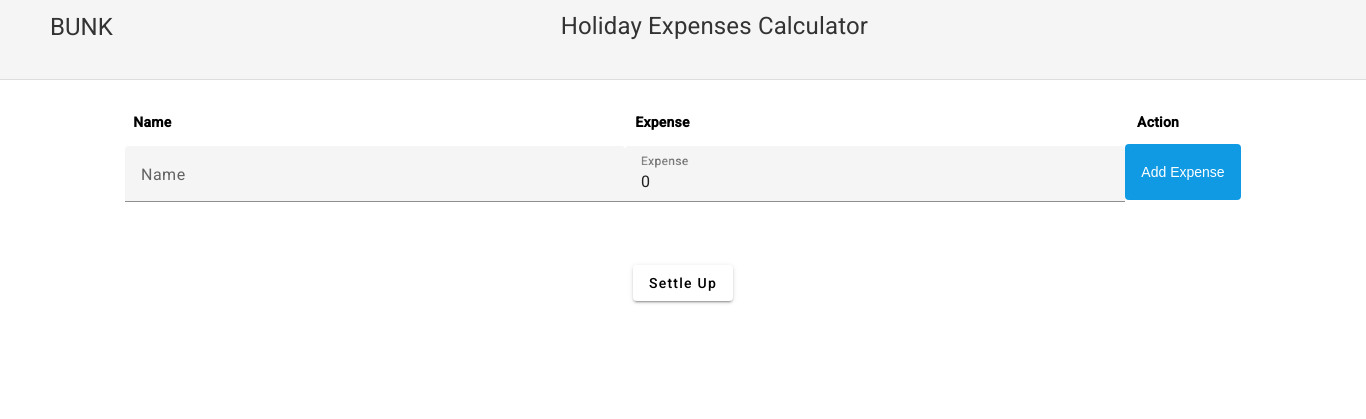
Expenses › should add an expense
Note: Add an expense
Type "Adriana" into the field named "name" at (375, 182), box 141,170 -> 609,194
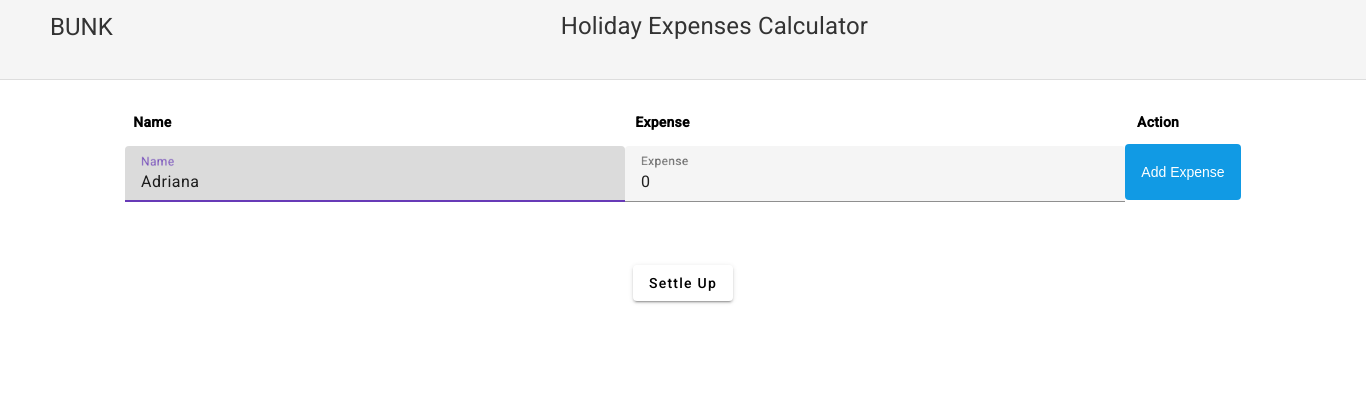
Type "5.75" into the number field named "amount" at (875, 182), box 641,170 -> 1109,194
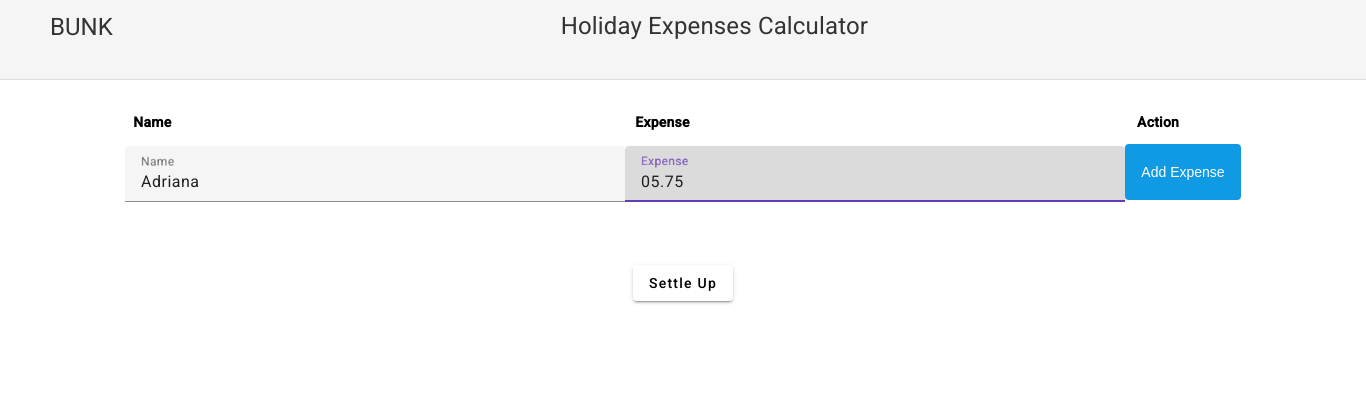
Click the button "Add Expense" at (1183, 172), box 1125,144 -> 1240,200
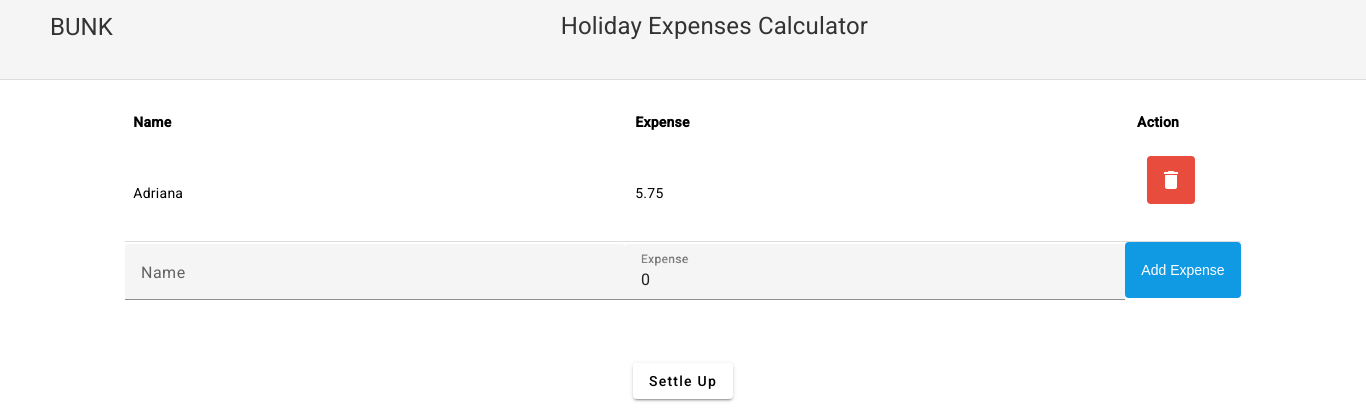
Now the cell "Adriana" is shown, box 125,144 -> 627,242
